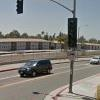Car: (14, 49, 59, 81)
